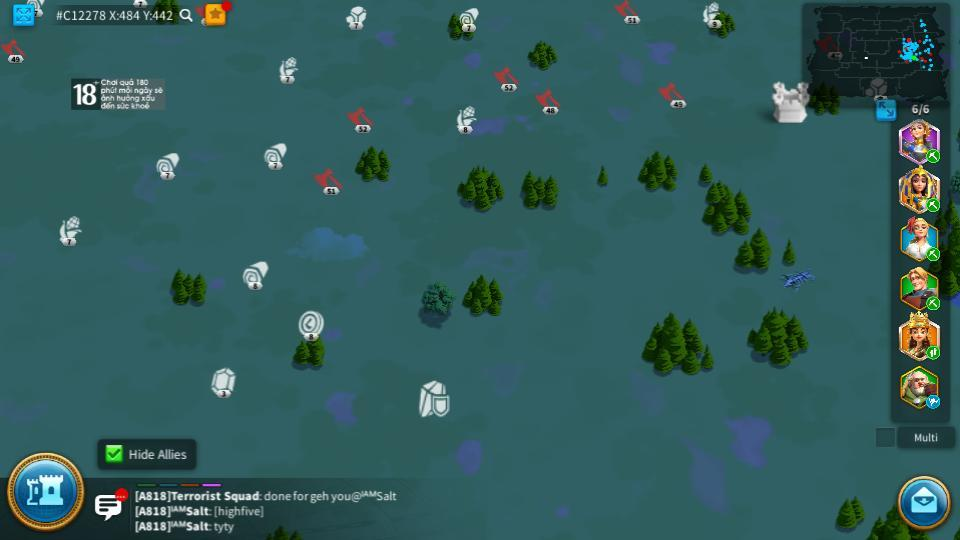gem-z-out: (210, 368, 236, 394)
march_farming: (923, 199, 940, 212), (925, 297, 942, 310), (925, 149, 941, 162), (926, 248, 940, 260)
march_idle: (925, 396, 942, 408)
march_marching: (925, 347, 942, 359)
